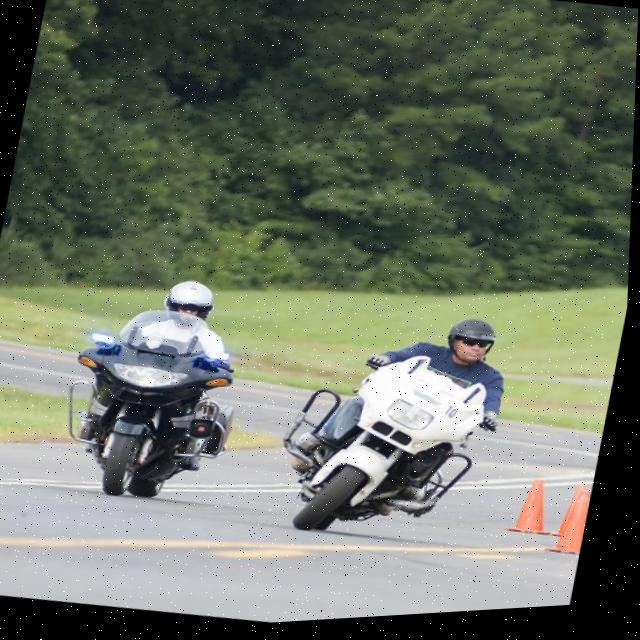motorcycle: (262, 329, 516, 562), (47, 284, 257, 523)
